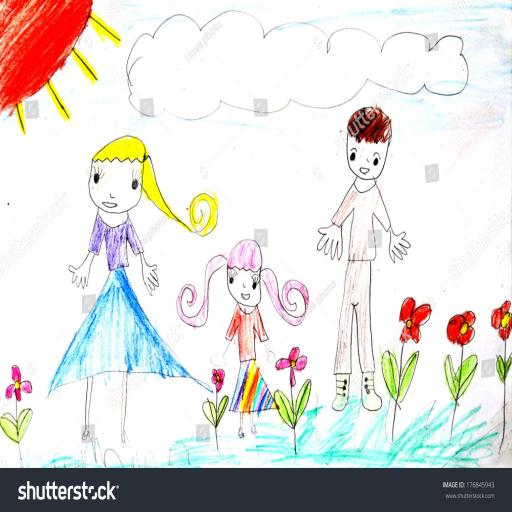person: (37, 132, 181, 455), (183, 229, 311, 455), (322, 101, 412, 417)
